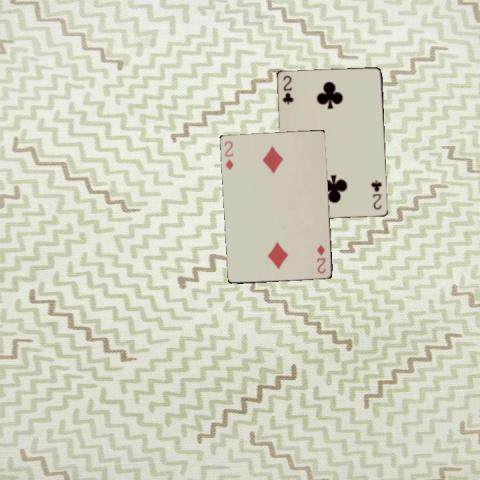2c: (369, 178, 383, 212), (280, 73, 294, 106)
2d: (221, 138, 235, 171), (314, 242, 327, 275)
